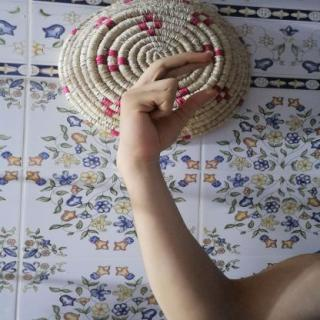DHELL: (107, 44, 226, 180)
